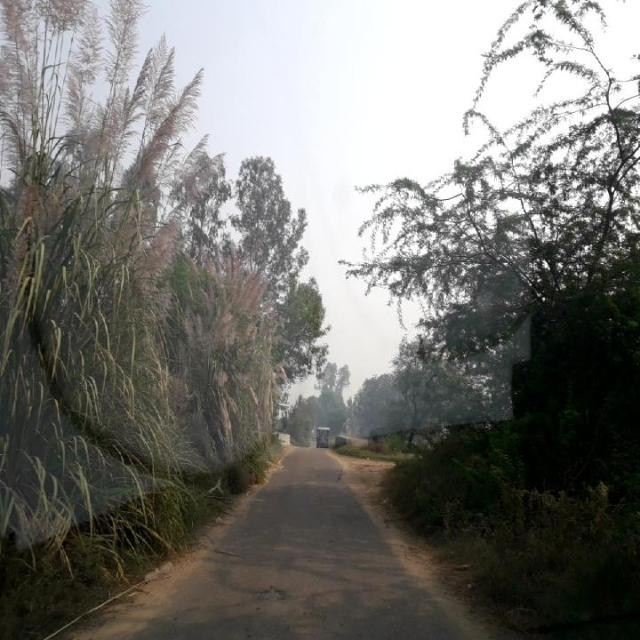D40: (258, 578, 286, 610)
